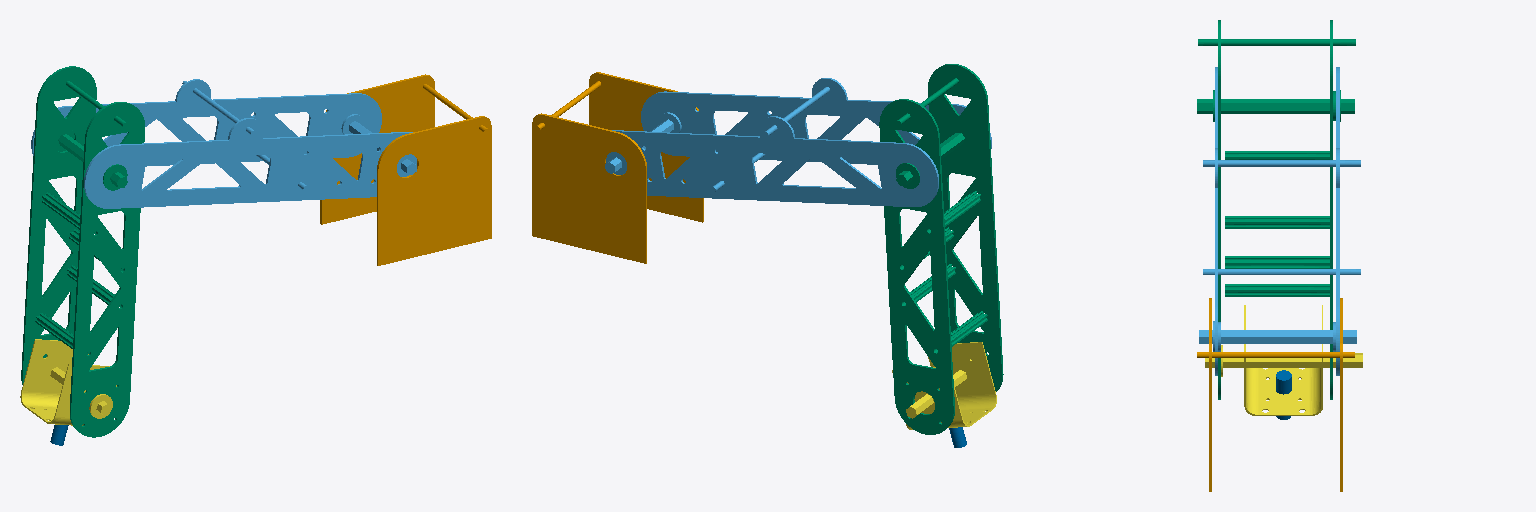
robot.urdf — uiowa_arm:
<robot name="uiowa_arm" version="1.0">
  <joint name="1_link_joint" type="revolute">
    <limit lower="0.00000" upper="1.04720" effort="0.00000" velocity="0.00000"/>
    <origin rpy="0.00000 0.00000 0.00000" xyz="-1.54039 0.05634 4.21971"/>
    <parent link="0_link"/>
    <child link="1_link"/>
    <axis xyz="0.00000 1.00000 0.00000"/>
  </joint>
  <joint name="2_link_joint" type="revolute">
    <limit lower="-3.14000" upper="3.14000" effort="0.00000" velocity="0.00000"/>
    <origin rpy="0.00000 0.00000 0.00000" xyz="-14.67461 -0.05860 2.82365"/>
    <parent link="1_link"/>
    <child link="2_link"/>
    <axis xyz="0.00000 1.00000 0.00000"/>
  </joint>
  <joint name="3_link_joint" type="revolute">
    <limit lower="-3.14000" upper="3.14000" effort="0.00000" velocity="0.00000"/>
    <origin rpy="0.00000 0.00000 0.00000" xyz="-0.68917 0.09859 -10.98294"/>
    <parent link="2_link"/>
    <child link="3_link"/>
    <axis xyz="0.00000 1.00000 0.00000"/>
  </joint>
  <joint name="4_link_joint" type="fixed">
    <origin rpy="-0.00000 0.00000 0.00000" xyz="-0.49591 0.19867 -1.66949"/>
    <parent link="3_link"/>
    <child link="4_link"/>
  </joint>
  <link name="0_link">
    <collision name="0_collision">
      <origin rpy="0.00000 0.00000 0.00000" xyz="-0.16139 0.00001 1.31410"/>
      <geometry>
        <box size="5.65402 5.47455 3.04922"/>
      </geometry>
    </collision>
    <inertial>
      <inertia ixx="47.91954" ixy="0.00000" ixz="0.00000" iyy="45.99856" iyz="0.00000" izz="45.96502"/>
      <origin rpy="0.00000 0.00000 0.00000" xyz="0.00000 -0.00000 2.73116"/>
      <mass value="7.98100"/>
    </inertial>
    <visual name="0_visual">
      <origin rpy="0.00000 0.00000 0.00000" xyz="0.00000 0.00000 2.73116"/>
      <geometry>
        <mesh filename="package://robot_name_model/meshes/dae/arm_main.001.dae" scale="1.00000 1.00000 1.00000"/>
      </geometry>
    </visual>
  </link>
  <link name="1_link">
    <collision name="1_collision">
      <origin rpy="0.00000 0.19981 0.00000" xyz="-7.30699 -0.05293 1.44050"/>
      <geometry>
        <box size="12.02998 4.99377 2.24118"/>
      </geometry>
    </collision>
    <inertial>
      <inertia ixx="47.52676" ixy="0.00000" ixz="0.00000" iyy="231.63026" iyz="0.00000" izz="234.20783"/>
      <origin rpy="0.00000 0.00000 0.00000" xyz="-6.17970 0.00000 1.27505"/>
      <mass value="7.98100"/>
    </inertial>
    <visual name="1_visual">
      <origin rpy="0.00000 0.00000 0.00000" xyz="-6.17970 0.00000 1.27505"/>
      <geometry>
        <mesh filename="package://robot_name_model/meshes/dae/arm_main.002.dae" scale="1.00000 1.00000 1.00000"/>
      </geometry>
    </visual>
  </link>
  <link name="2_link">
    <collision name="2_collision">
      <origin rpy="0.00000 0.07714 0.00000" xyz="-0.90701 -0.04188 -4.66751"/>
      <geometry>
        <box size="2.43509 4.59535 7.21933"/>
      </geometry>
    </collision>
    <inertial>
      <inertia ixx="193.81439" ixy="0.00000" ixz="0.00000" iyy="179.22450" iyz="0.00000" izz="33.49743"/>
      <origin rpy="0.00000 0.00000 0.00000" xyz="-0.26894 -0.00000 -3.80964"/>
      <mass value="7.98100"/>
    </inertial>
    <visual name="2_visual">
      <origin rpy="0.00000 0.00000 0.00000" xyz="-0.26895 -0.00000 -3.80964"/>
      <geometry>
        <mesh filename="package://robot_name_model/meshes/dae/arm_main.007.dae" scale="1.00000 1.00000 1.00000"/>
      </geometry>
    </visual>
  </link>
  <link name="3_link">
    <collision name="3_collision">
      <origin rpy="-0.00000 0.21062 -0.00000" xyz="0.00615 0.09404 -0.09153"/>
      <geometry>
        <box size="2.75493 3.83413 2.75493"/>
      </geometry>
    </collision>
    <inertial>
      <inertia ixx="33.14782" ixy="-0.00000" ixz="-0.00000" iyy="18.40965" iyz="-0.00000" izz="33.14781"/>
      <origin rpy="0.00000 0.00000 0.00000" xyz="-0.07041 -0.00000 -0.21124"/>
      <mass value="7.98100"/>
    </inertial>
    <visual name="3_visual">
      <origin rpy="-0.00000 0.00000 0.00000" xyz="-0.07041 -0.00000 -0.21124"/>
      <geometry>
        <mesh filename="package://robot_name_model/meshes/dae/arm_main.dae" scale="1.00000 1.00000 1.00000"/>
      </geometry>
    </visual>
  </link>
  <link name="4_link">
    <collision name="4_collision">
      <origin rpy="-0.00000 0.28106 -0.00000" xyz="-0.25425 -0.00000 -0.91478"/>
      <geometry>
        <box size="0.65542 0.62640 2.11582"/>
      </geometry>
    </collision>
    <inertial>
      <inertia ixx="3.13903" ixy="0.00000" ixz="0.00000" iyy="3.75817" iyz="-0.00000" izz="1.09800"/>
      <origin rpy="0.00000 0.00000 0.00000" xyz="0.00000 -0.00000 -0.00000"/>
      <mass value="7.98100"/>
    </inertial>
    <visual name="4_visual">
      <origin rpy="-0.00000 0.00000 0.00000" xyz="0.00000 -0.00000 0.00000"/>
      <geometry>
        <mesh filename="package://robot_name_model/meshes/dae/arm_main.008.dae" scale="1.00000 1.00000 1.00000"/>
      </geometry>
    </visual>
  </link>
</robot>

--- What the picture shows (computed from the rendered views, not written in the file) ---
Views: 3 orthographic renders of the robot side by side, from view 1: azimuth 30°, elevation 25°; view 2: azimuth 150°, elevation 25°; view 3: azimuth 270°, elevation 25°.
Model uiowa_arm with 5 links and 4 joints (3 revolute, 1 fixed), rooted at 0_link, posed all joints at 0.
Links seen in each view (by area): view 1: 2_link, 1_link, 0_link, 3_link; view 2: 2_link, 1_link, 0_link, 3_link; view 3: 2_link, 1_link, 3_link, 0_link.
Link boxes in pixels (x1,y1,x2,y2): 2_link: (21, 66, 144, 437); 1_link: (31, 79, 416, 208); 0_link: (320, 74, 491, 265); 3_link: (20, 339, 116, 425); 2_link: (879, 64, 1003, 434); 1_link: (605, 78, 991, 206); 0_link: (532, 72, 703, 263); 3_link: (892, 342, 996, 429); 2_link: (1197, 20, 1355, 399); 1_link: (1199, 67, 1360, 375); 3_link: (1205, 305, 1362, 415); 0_link: (1197, 298, 1354, 491).
Size in the robot's own frame: 21.5 by 6.29 by 17.2 metres.
5 mesh visuals loaded from 5 distinct referenced files (5 Collada DAE).
